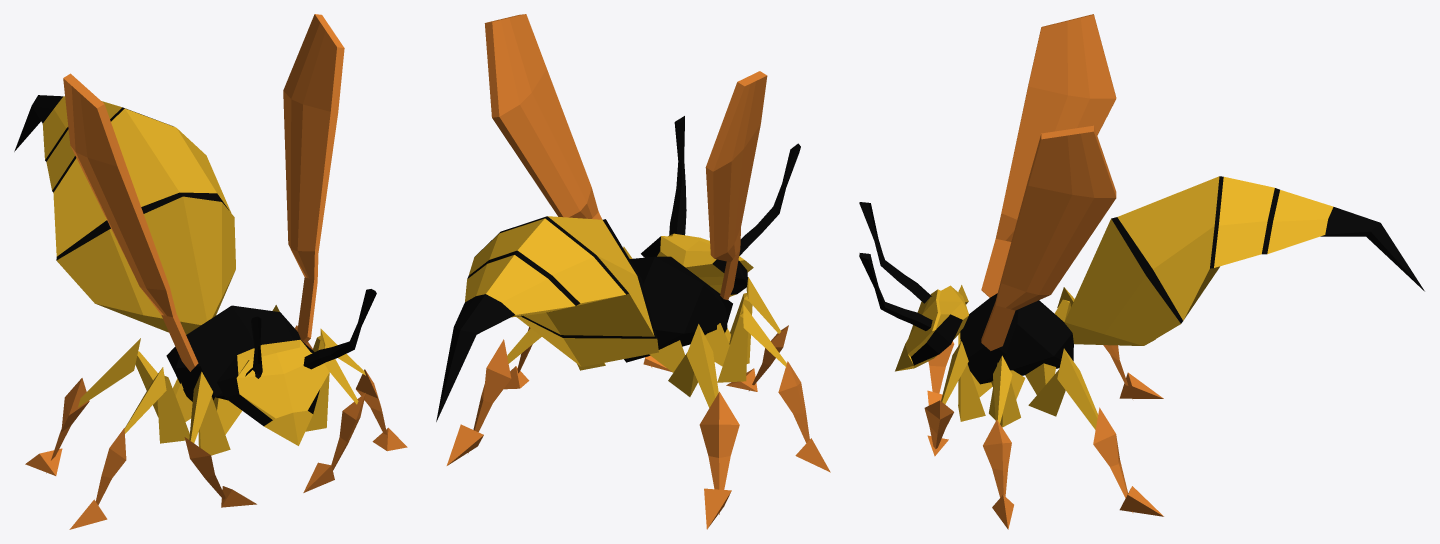
Rendered from Wasp_Slender.fbx.
The picture shows the model from 3 angles, left to right: view 1: azimuth 30°, elevation 25°; view 2: azimuth 150°, elevation 25°; view 3: azimuth 270°, elevation 25°; orthographic projection. The views are drawn at different scales.
Visible parts, largest first — view 1: Wasp body, left wing, right wing; view 2: Wasp body, left wing, right wing; view 3: Wasp body, left wing, right wing.
Boxes of the visible parts, x1,y1,x2,y2 form: Wasp body: [14, 95, 407, 529]; left wing: [283, 14, 344, 343]; right wing: [63, 73, 198, 371]; Wasp body: [436, 116, 830, 529]; left wing: [484, 14, 602, 219]; right wing: [705, 71, 767, 299]; Wasp body: [859, 176, 1424, 529]; left wing: [981, 125, 1116, 350]; right wing: [981, 14, 1116, 297].
Size of the model in its own units: 197 by 231 by 306.
